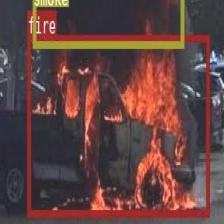fire: (27, 34, 209, 216)
smoke: (32, 0, 182, 47)
